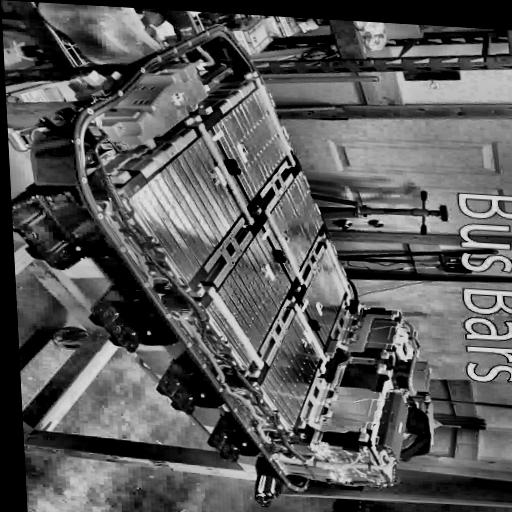busbar: (180, 102, 258, 231), (190, 282, 266, 379), (240, 70, 298, 170), (249, 203, 307, 293), (323, 310, 403, 361), (286, 296, 331, 373), (316, 231, 356, 308), (100, 139, 162, 187), (293, 414, 371, 443), (366, 347, 403, 380)
